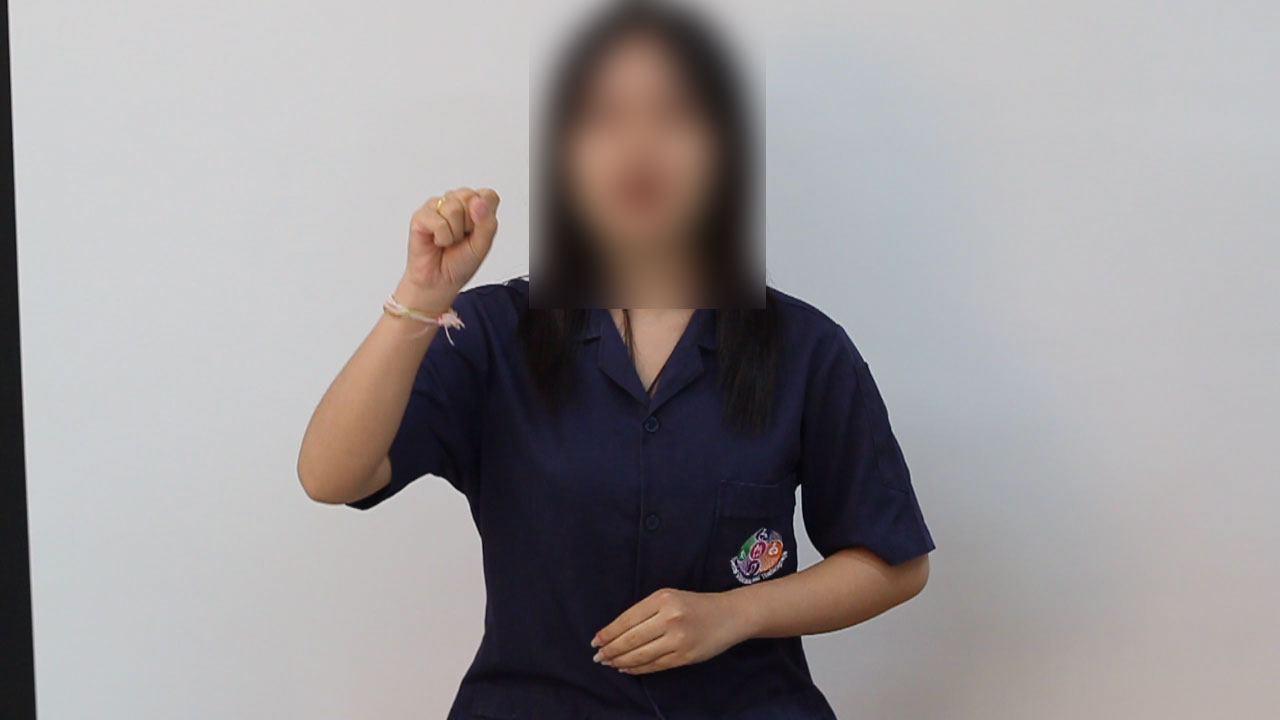sor: (389, 177, 512, 333)
